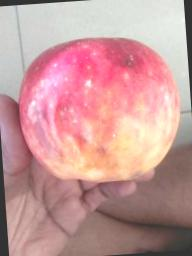Apple Overripe: (8, 32, 192, 200)
